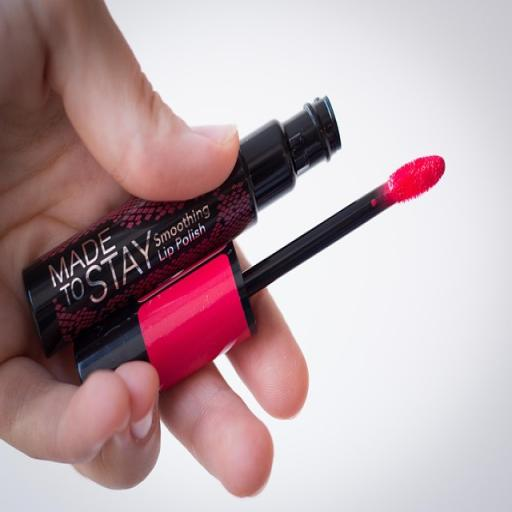lipstick: (75, 156, 444, 389), (24, 98, 340, 356)
